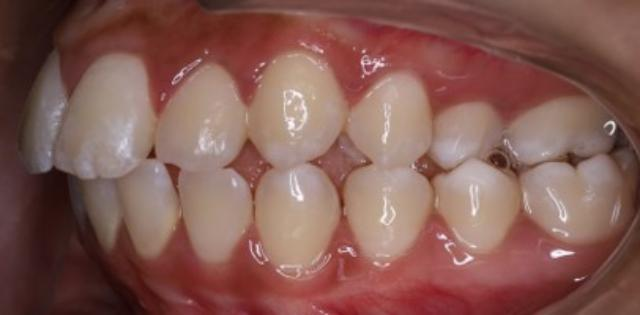canine class II 3/4: (246, 39, 429, 283)
molar class II 1/2: (506, 88, 640, 258)
